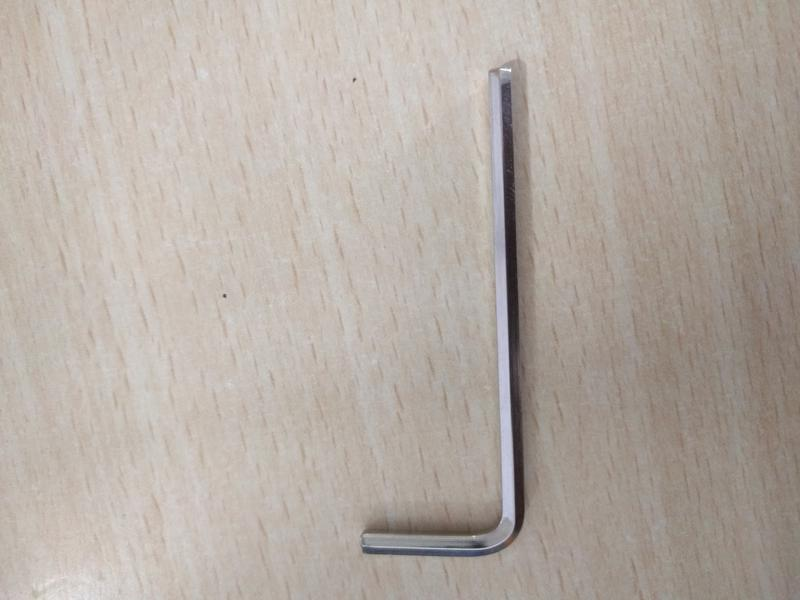turner: (349, 15, 559, 571)
